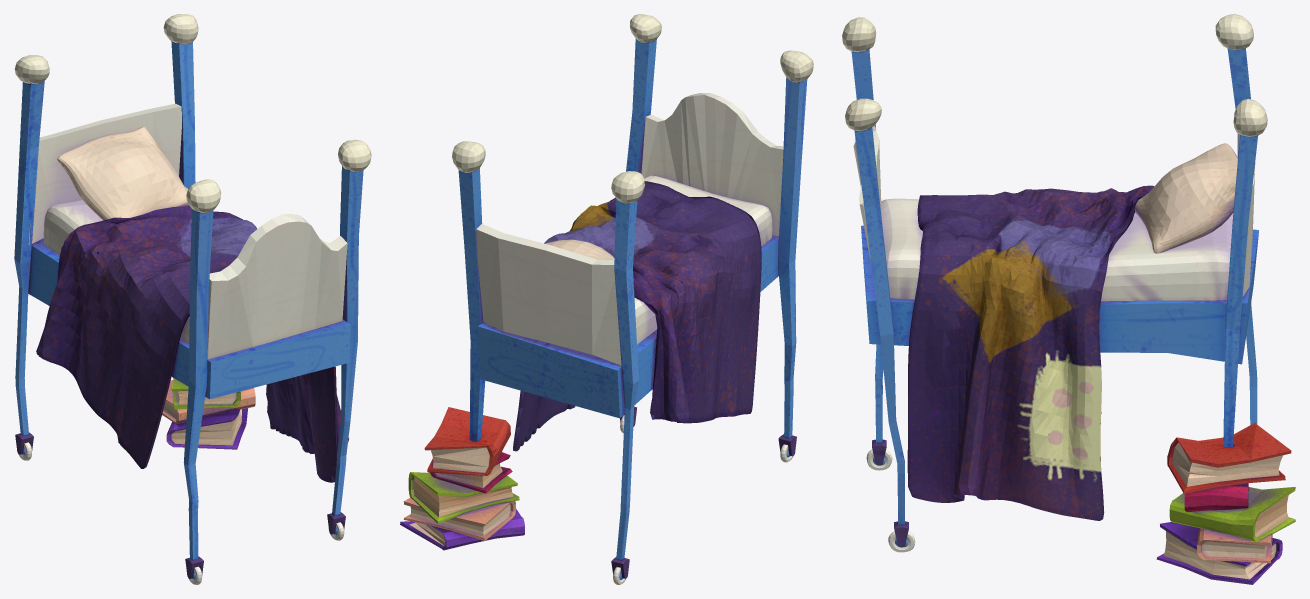
3 renders of one model, left to right at view 1: azimuth 30°, elevation 25°; view 2: azimuth 150°, elevation 25°; view 3: azimuth 270°, elevation 25°, orthographic. The views are drawn at different scales.
Visible parts, largest first — view 1: bed_2.mo; view 2: bed_2.mo; view 3: bed_2.mo.
Boxes of the visible parts, bbox=[...] form: bed_2.mo: bbox=[14, 14, 371, 584]; bed_2.mo: bbox=[400, 14, 813, 584]; bed_2.mo: bbox=[842, 14, 1295, 584].
Size of the model in its own units: 161 by 250 by 227.
1 material, 1 textured.
